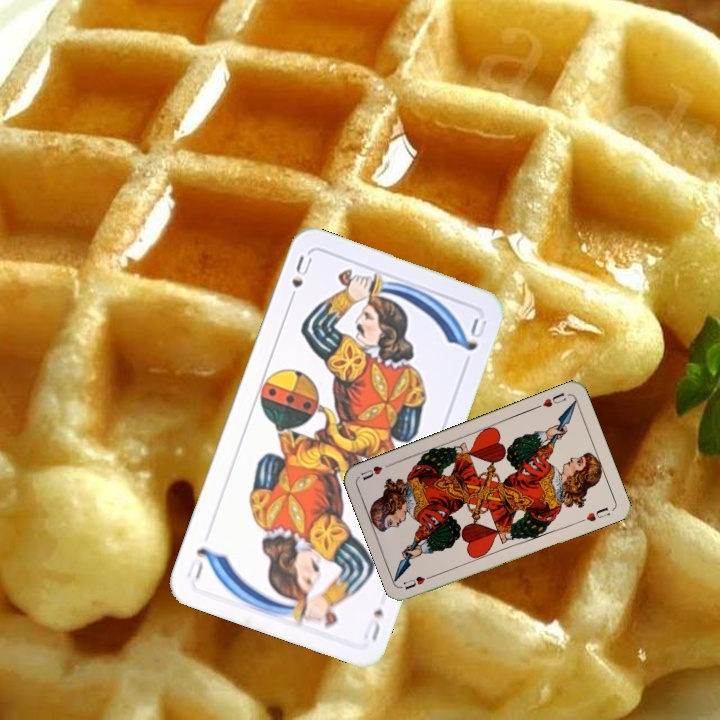HU: (400, 570, 439, 592), (532, 389, 569, 411)
SU: (284, 251, 315, 307), (359, 604, 386, 645)
